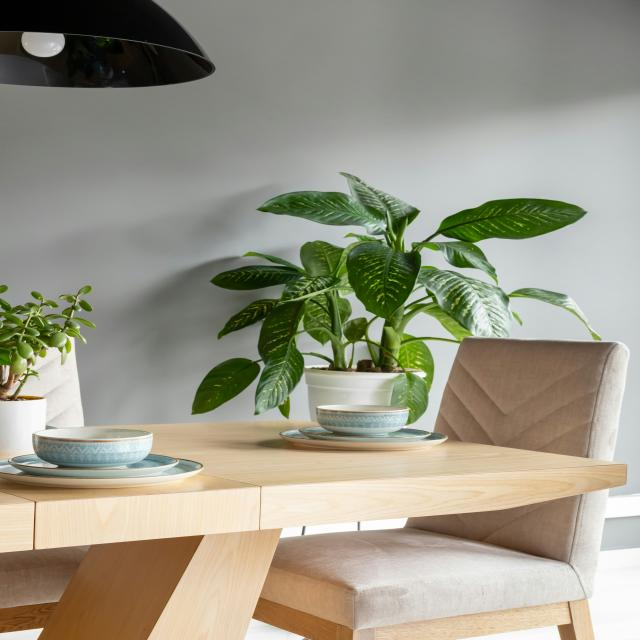floor: (588, 547, 640, 640), (454, 625, 561, 640), (245, 618, 305, 640)
